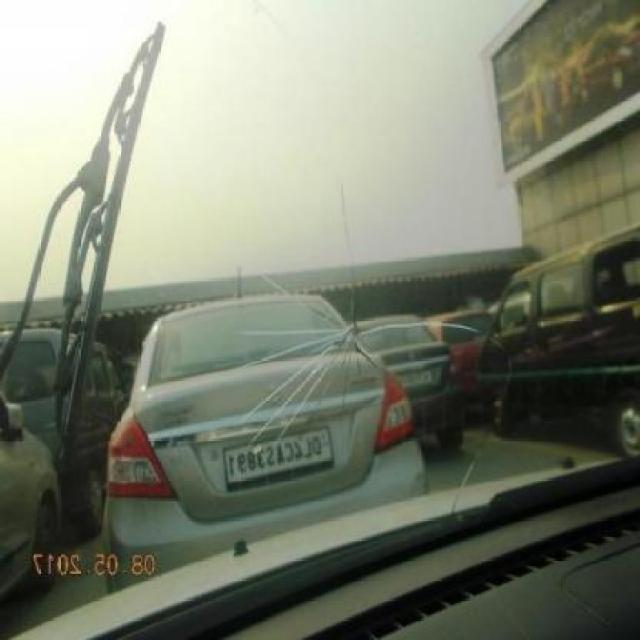damage: (233, 201, 479, 460)
